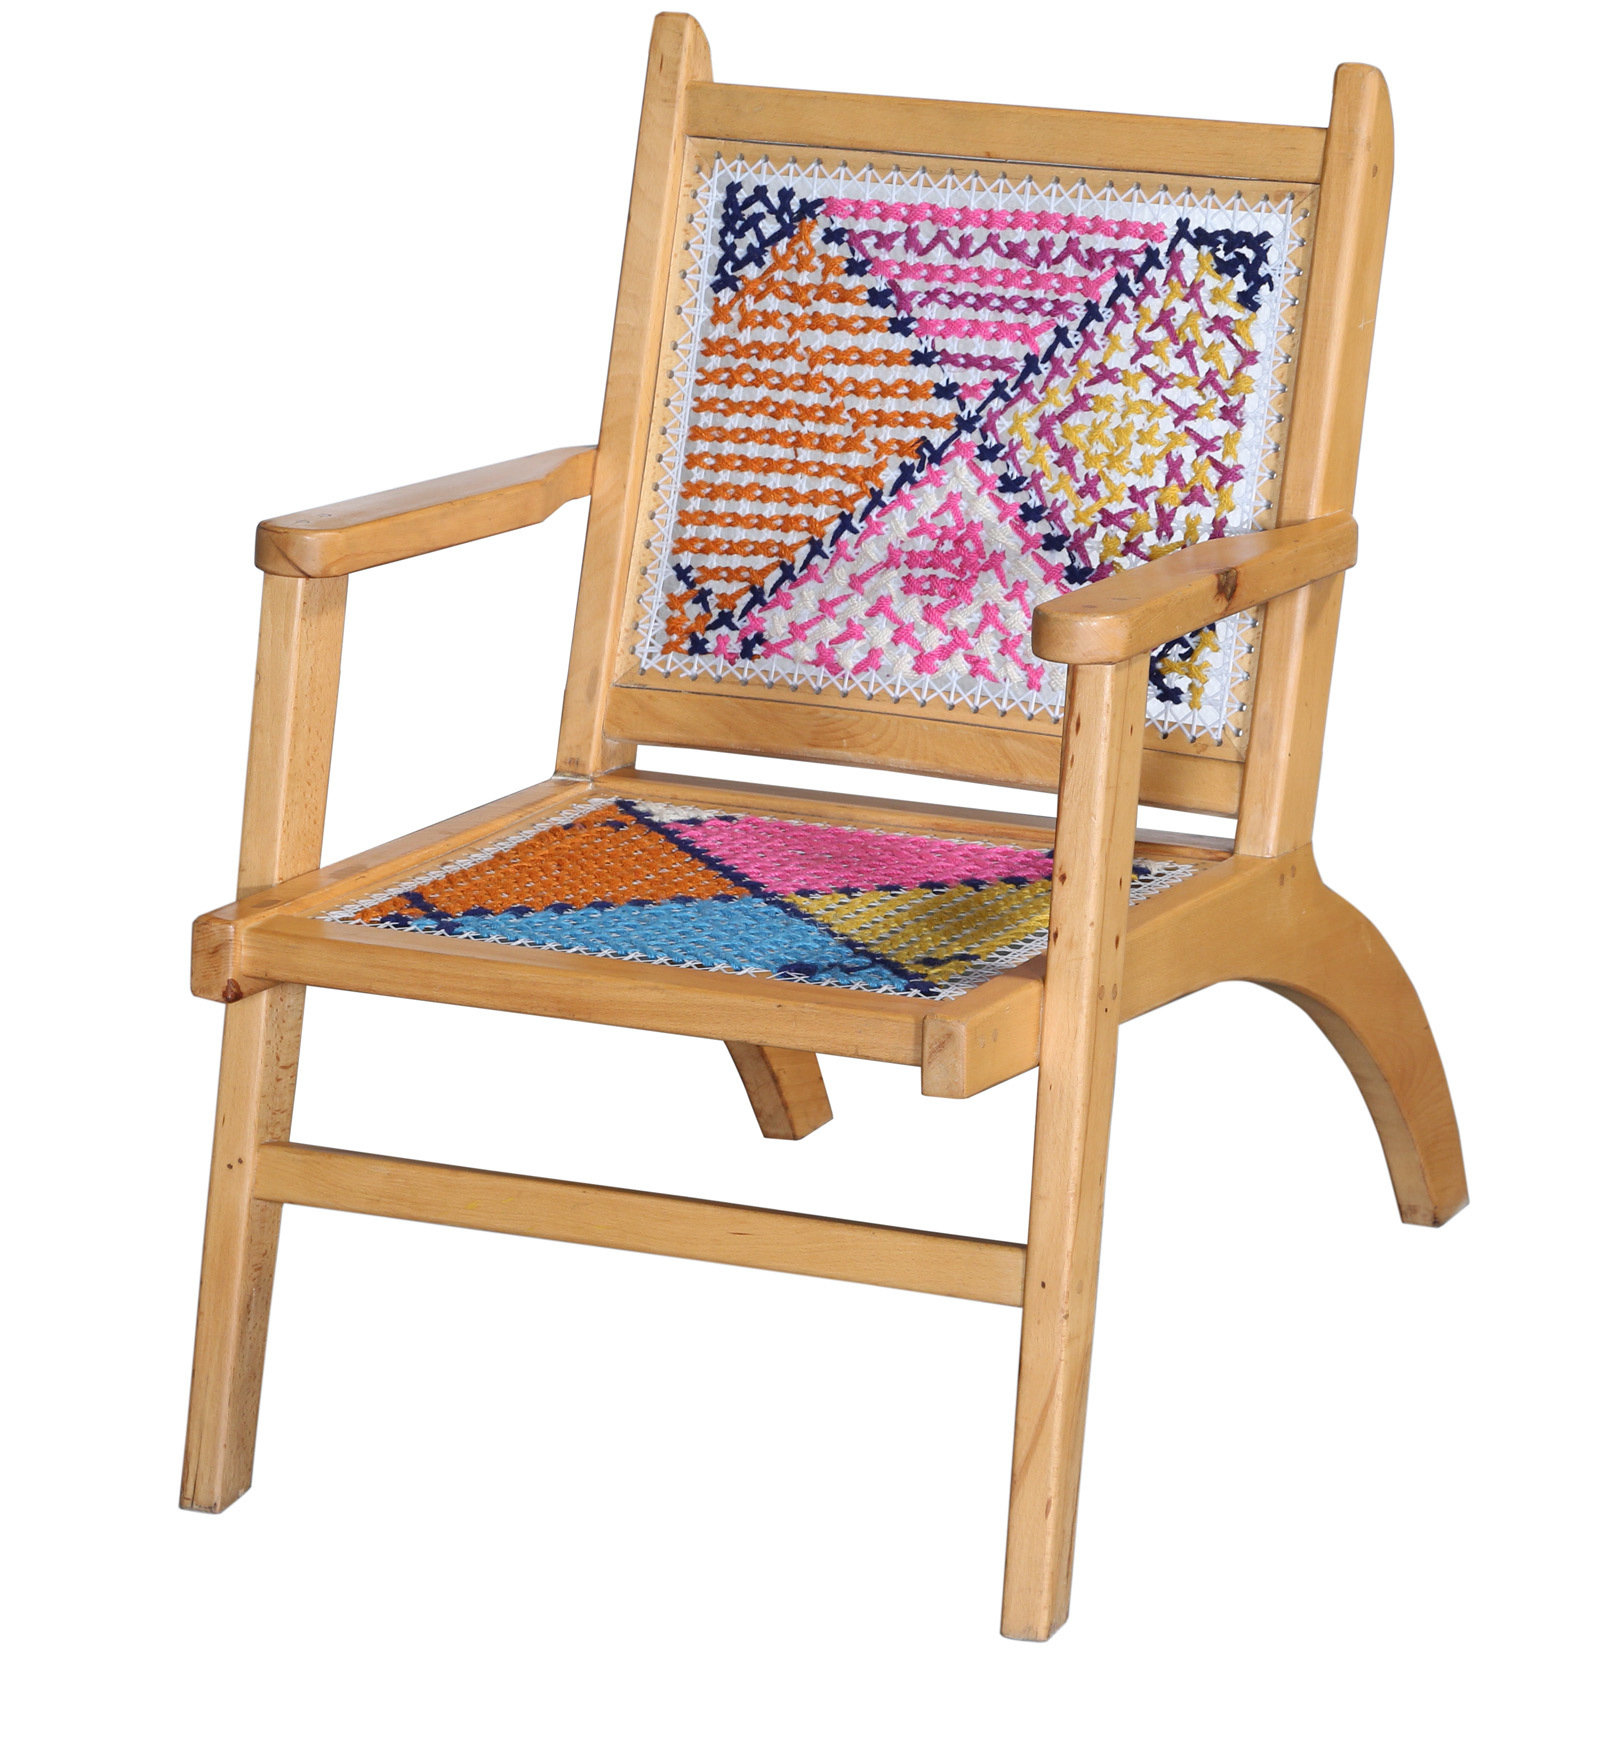Cara Arm Chair in in Multi- Color Finish by Bohemiana: (146, 23, 1517, 1656)
